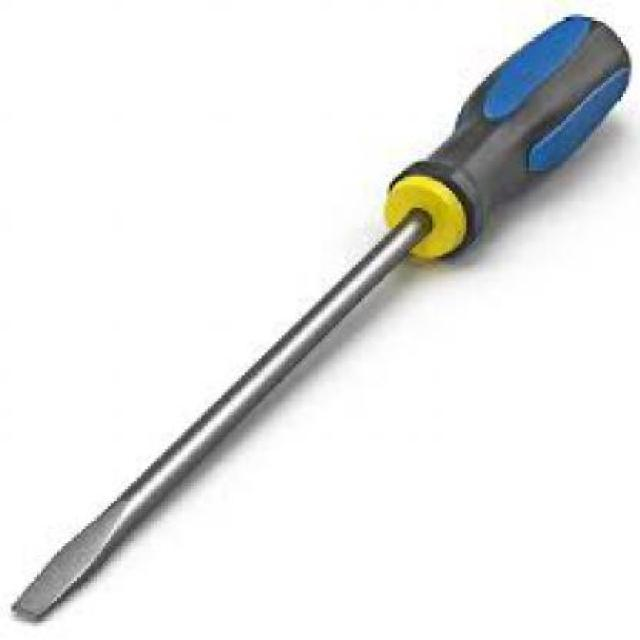screwdriver: (11, 14, 634, 623)
